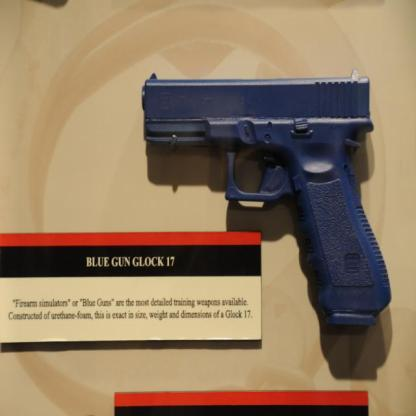weapon: (141, 69, 393, 333)
